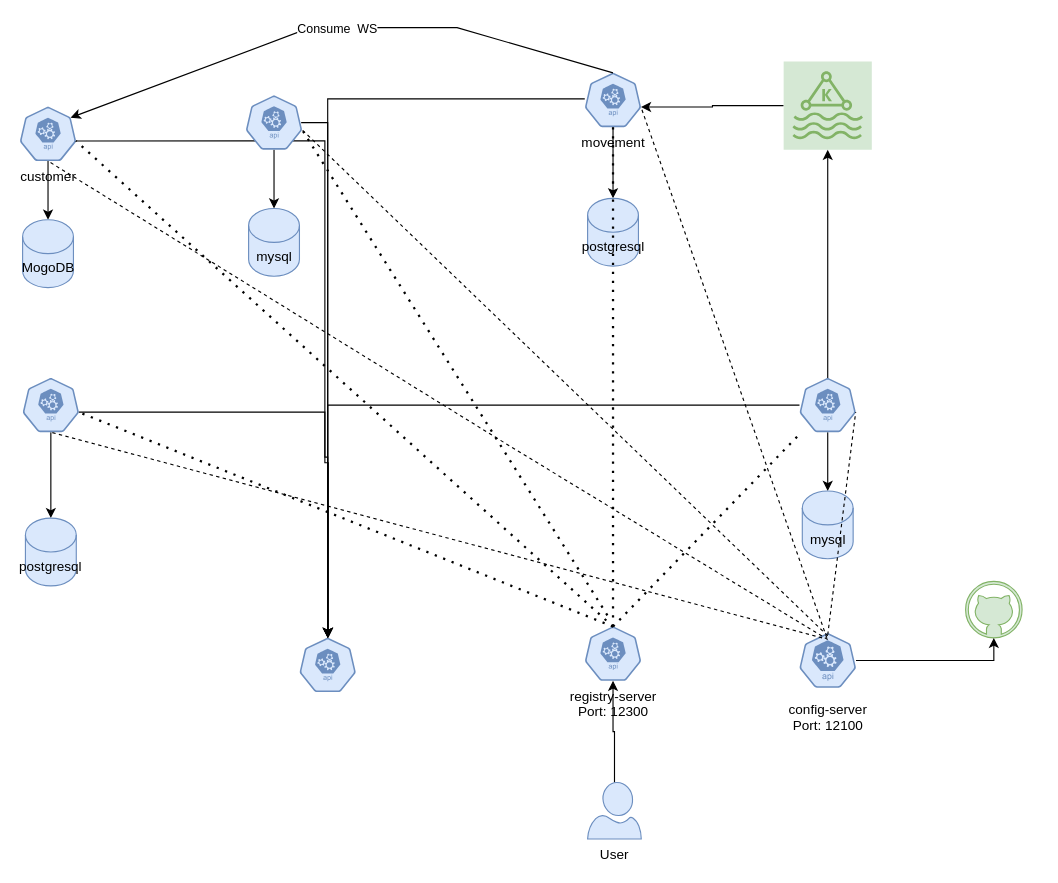
Some shapes in this 1058 by 883 pixel diagram are drawn without their labels. Here are the shapes that lost their labels. From the top down, the box of each, then its label:
(245, 94, 302, 150): account
(21, 377, 79, 432): credit
(798, 377, 856, 432): registration
(964, 580, 1022, 638): config-external
(298, 637, 356, 692): discovery Port: 12200
